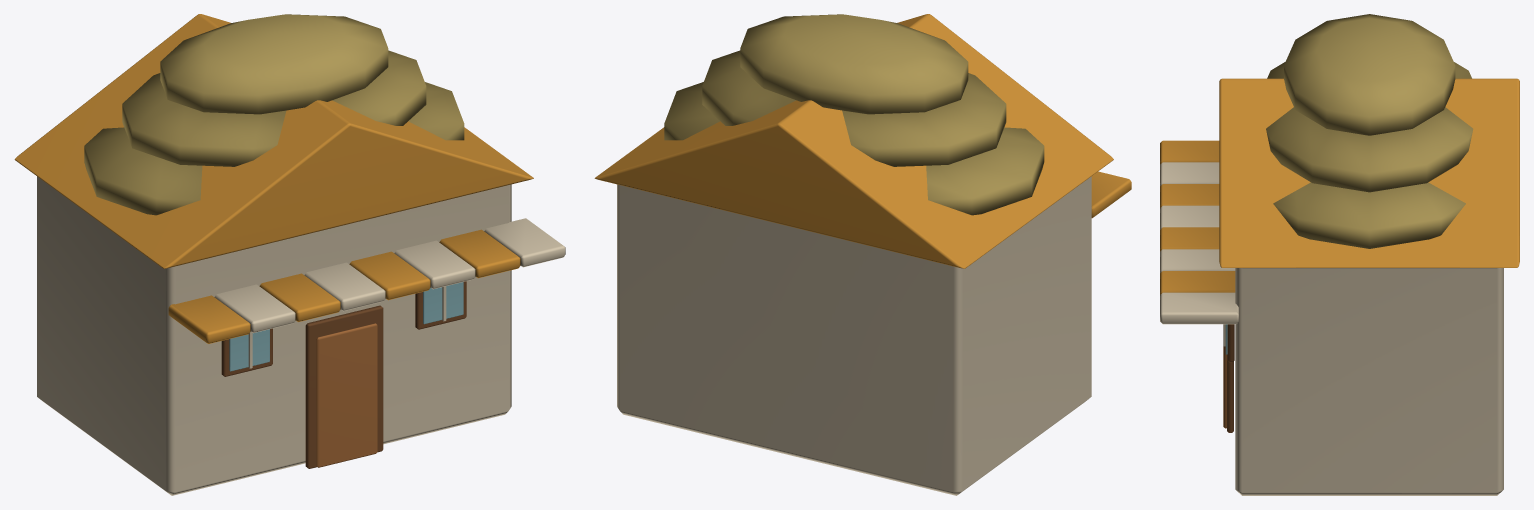
Rendered from honey_shop.glb.
3 renders of one model, left to right at view 1: azimuth 30°, elevation 25°; view 2: azimuth 150°, elevation 25°; view 3: azimuth 270°, elevation 25°, orthographic.
Visible parts, largest first — view 1: honey_shop; view 2: honey_shop; view 3: honey_shop.
Boxes of the visible parts, <box> form: honey_shop: <box>14,14,565,495</box>; honey_shop: <box>594,14,1131,495</box>; honey_shop: <box>1160,14,1519,495</box>.
Size of the model in its own units: 5.38 by 5.17 by 4.55.
